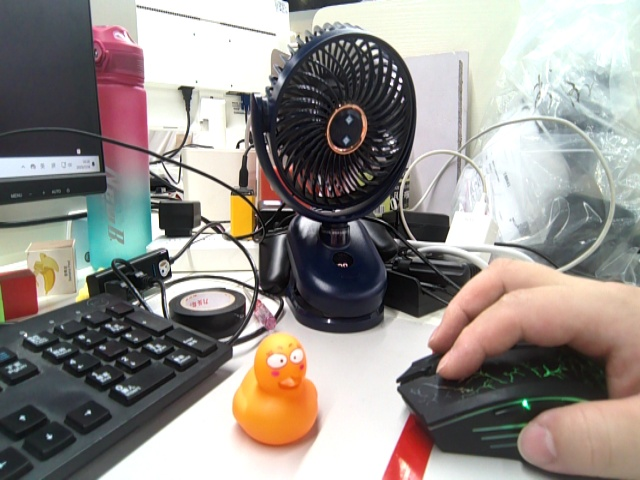duck: (231, 334, 324, 445)
